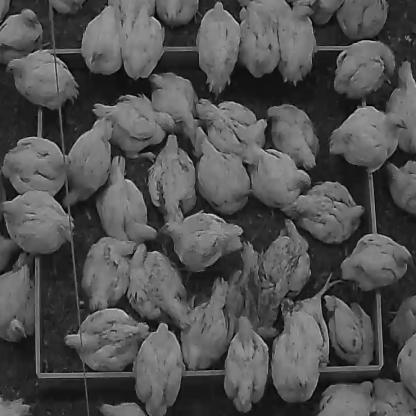chicken: (91, 92, 174, 162), (95, 155, 157, 245), (63, 308, 148, 372), (280, 180, 364, 243), (271, 299, 322, 402), (328, 105, 406, 172), (192, 126, 250, 214), (127, 242, 189, 324), (133, 321, 185, 415), (0, 189, 74, 255), (180, 278, 233, 369), (61, 116, 112, 206), (229, 240, 276, 336), (196, 93, 266, 157), (162, 215, 242, 271), (148, 133, 195, 226), (196, 0, 240, 98), (6, 50, 79, 109), (341, 232, 412, 291), (224, 316, 268, 411), (260, 218, 309, 301), (2, 136, 69, 195), (81, 235, 134, 309), (250, 144, 310, 208), (323, 292, 374, 366), (334, 40, 394, 98), (266, 104, 319, 169), (149, 70, 197, 140), (120, 5, 164, 79), (277, 5, 316, 85), (80, 4, 122, 75), (238, 5, 279, 77), (0, 8, 51, 64), (385, 61, 416, 152), (0, 265, 34, 343), (336, 0, 388, 40), (317, 380, 372, 416), (373, 377, 415, 415), (388, 158, 416, 214), (388, 294, 416, 344), (396, 334, 415, 398), (296, 0, 343, 24), (154, 0, 198, 25), (107, 0, 156, 17), (97, 402, 146, 415), (0, 235, 17, 270), (0, 395, 29, 415), (49, 0, 85, 15)
